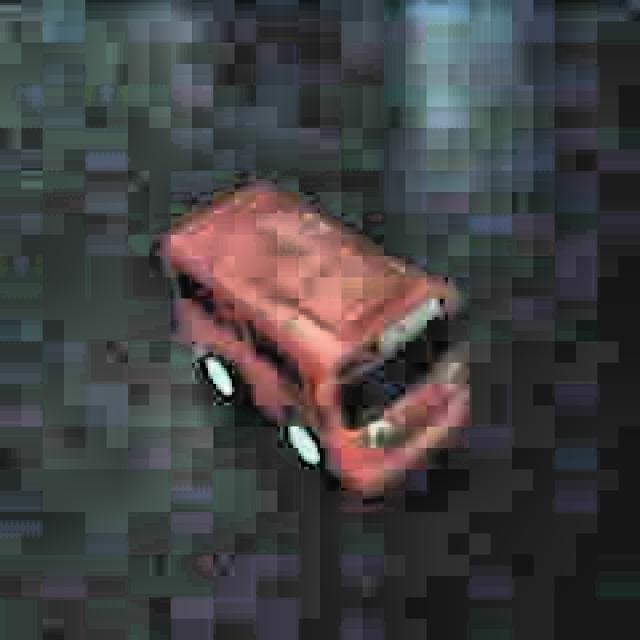bus: (163, 182, 473, 502)
